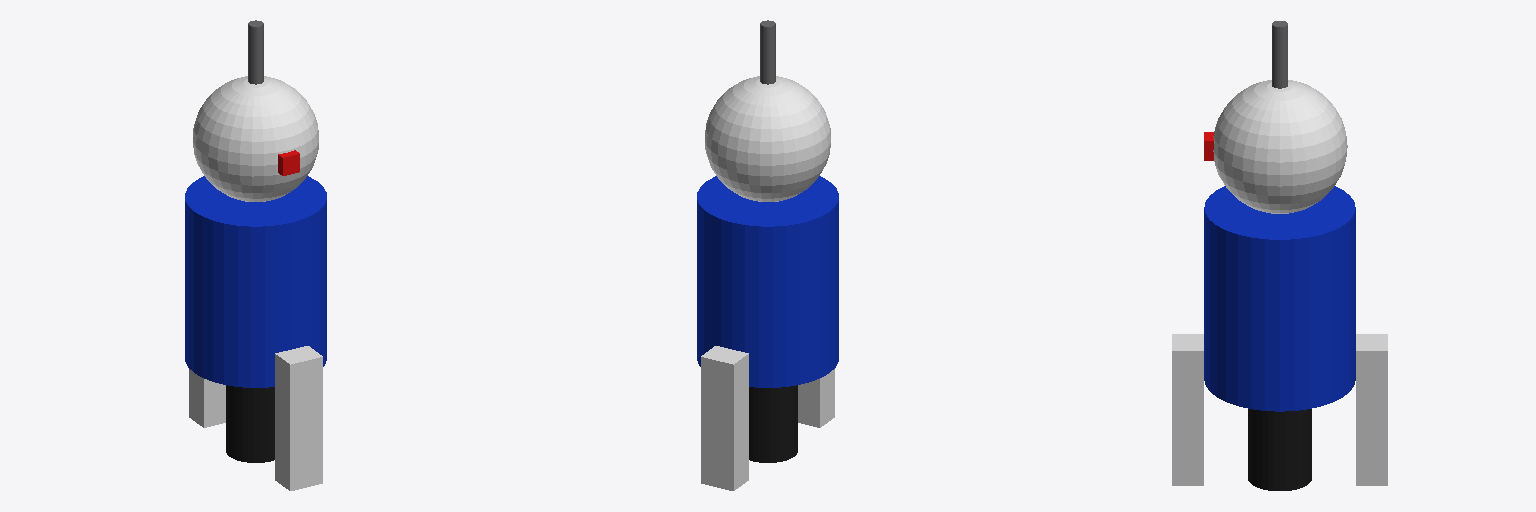
robot.urdf — r2d2:
<?xml version="1.0"?>
<!--
  R2D2, deliberately simple: 7 links, 6 joints.
  Four joints are animated by the r2d2 state_publisher:
      l1_connect, l2_connect (leg swing)
      tilt                   (head nod)
      periscope              (rod spin)
  body_connect and box_connect are fixed.

  axis is the root link and intentionally has no <inertial>, which also
  avoids the KDL "root link has an inertia" warning.
-->
<robot name="r2d2">

  <material name="blue">  <color rgba="0.10 0.25 0.80 1.0"/> </material>
  <material name="white"> <color rgba="0.90 0.90 0.90 1.0"/> </material>
  <material name="grey">  <color rgba="0.45 0.45 0.45 1.0"/> </material>
  <material name="dark">  <color rgba="0.15 0.15 0.15 1.0"/> </material>
  <material name="red">   <color rgba="0.90 0.10 0.10 1.0"/> </material>

  <!-- ============================== links ============================ -->
  <!-- central spine, hides inside the body -->
  <link name="axis">
    <visual>
      <geometry> <cylinder radius="0.12" length="0.9"/> </geometry>
      <origin xyz="0 0 0.45" rpy="0 0 0"/>
      <material name="dark"/>
    </visual>
    <collision>
      <geometry> <cylinder radius="0.12" length="0.9"/> </geometry>
      <origin xyz="0 0 0.45" rpy="0 0 0"/>
    </collision>
  </link>

  <!-- side legs, pivoting at the hip -->
  <link name="leg1">
    <visual>
      <geometry> <box size="0.15 0.12 0.55"/> </geometry>
      <origin xyz="0 0 -0.275" rpy="0 0 0"/>
      <material name="white"/>
    </visual>
    <collision>
      <geometry> <box size="0.15 0.12 0.55"/> </geometry>
      <origin xyz="0 0 -0.275" rpy="0 0 0"/>
    </collision>
    <inertial>
      <mass value="1.0"/>
      <origin xyz="0 0 -0.275" rpy="0 0 0"/>
      <inertia ixx="0.026408" ixy="0.0" ixz="0.0"
               iyy="0.027083" iyz="0.0"
               izz="0.003075"/>
    </inertial>
  </link>

  <link name="leg2">
    <visual>
      <geometry> <box size="0.15 0.12 0.55"/> </geometry>
      <origin xyz="0 0 -0.275" rpy="0 0 0"/>
      <material name="white"/>
    </visual>
    <collision>
      <geometry> <box size="0.15 0.12 0.55"/> </geometry>
      <origin xyz="0 0 -0.275" rpy="0 0 0"/>
    </collision>
    <inertial>
      <mass value="1.0"/>
      <origin xyz="0 0 -0.275" rpy="0 0 0"/>
      <inertia ixx="0.026408" ixy="0.0" ixz="0.0"
               iyy="0.027083" iyz="0.0"
               izz="0.003075"/>
    </inertial>
  </link>

  <!-- main body -->
  <link name="body">
    <visual>
      <geometry> <cylinder radius="0.28" length="0.7"/> </geometry>
      <origin xyz="0 0 0.35" rpy="0 0 0"/>
      <material name="blue"/>
    </visual>
    <collision>
      <geometry> <cylinder radius="0.28" length="0.7"/> </geometry>
      <origin xyz="0 0 0.35" rpy="0 0 0"/>
    </collision>
    <inertial>
      <mass value="5.0"/>
      <origin xyz="0 0 0.35" rpy="0 0 0"/>
      <inertia ixx="0.302167" ixy="0.0" ixz="0.0"
               iyy="0.302167" iyz="0.0"
               izz="0.196000"/>
    </inertial>
  </link>

  <!-- dome -->
  <link name="head">
    <visual>
      <geometry> <sphere radius="0.25"/> </geometry>
      <origin xyz="0 0 0.25" rpy="0 0 0"/>
      <material name="white"/>
    </visual>
    <collision>
      <geometry> <sphere radius="0.25"/> </geometry>
      <origin xyz="0 0 0.25" rpy="0 0 0"/>
    </collision>
    <inertial>
      <mass value="2.0"/>
      <origin xyz="0 0 0.25" rpy="0 0 0"/>
      <inertia ixx="0.050000" ixy="0.0" ixz="0.0"
               iyy="0.050000" iyz="0.0"
               izz="0.050000"/>
    </inertial>
  </link>

  <!-- periscope rod -->
  <link name="rod">
    <visual>
      <geometry> <cylinder radius="0.03" length="0.25"/> </geometry>
      <origin xyz="0 0 0.125" rpy="0 0 0"/>
      <material name="grey"/>
    </visual>
    <collision>
      <geometry> <cylinder radius="0.03" length="0.25"/> </geometry>
      <origin xyz="0 0 0.125" rpy="0 0 0"/>
    </collision>
    <inertial>
      <mass value="0.2"/>
      <origin xyz="0 0 0.125" rpy="0 0 0"/>
      <inertia ixx="0.001087" ixy="0.0" ixz="0.0"
               iyy="0.001087" iyz="0.0"
               izz="0.000090"/>
    </inertial>
  </link>

  <!-- small box on the side of the dome -->
  <link name="box">
    <visual>
      <geometry> <box size="0.08 0.08 0.08"/> </geometry>
      <origin xyz="0 0 0" rpy="0 0 0"/>
      <material name="red"/>
    </visual>
    <collision>
      <geometry> <box size="0.08 0.08 0.08"/> </geometry>
      <origin xyz="0 0 0" rpy="0 0 0"/>
    </collision>
    <inertial>
      <mass value="0.2"/>
      <origin xyz="0 0 0" rpy="0 0 0"/>
      <inertia ixx="0.000213" ixy="0.0" ixz="0.0"
               iyy="0.000213" iyz="0.0"
               izz="0.000213"/>
    </inertial>
  </link>

  <!-- ============================== joints =========================== -->
  <!-- legs swing forwards/backwards about Y -->
  <joint name="l1_connect" type="continuous">
    <parent link="axis"/>
    <child  link="leg1"/>
    <origin xyz="0 0.34 0.55" rpy="0 0 0"/>
    <axis xyz="0 1 0"/>
    <dynamics damping="0.1" friction="0.05"/>
  </joint>

  <joint name="l2_connect" type="continuous">
    <parent link="axis"/>
    <child  link="leg2"/>
    <origin xyz="0 -0.34 0.55" rpy="0 0 0"/>
    <axis xyz="0 1 0"/>
    <dynamics damping="0.1" friction="0.05"/>
  </joint>

  <!-- body sits on the spine -->
  <joint name="body_connect" type="fixed">
    <parent link="axis"/>
    <child  link="body"/>
    <origin xyz="0 0 0.4" rpy="0 0 0"/>
  </joint>

  <!-- head nods about X -->
  <joint name="tilt" type="revolute">
    <parent link="body"/>
    <child  link="head"/>
    <origin xyz="0 0 0.7" rpy="0 0 0"/>
    <axis xyz="1 0 0"/>
    <limit lower="-1.0" upper="1.0" effort="30.0" velocity="1.0"/>
    <dynamics damping="0.1" friction="0.05"/>
  </joint>

  <!-- rod spins about Z -->
  <joint name="periscope" type="continuous">
    <parent link="head"/>
    <child  link="rod"/>
    <origin xyz="0 0 0.5" rpy="0 0 0"/>
    <axis xyz="0 0 1"/>
    <dynamics damping="0.1" friction="0.05"/>
  </joint>

  <joint name="box_connect" type="fixed">
    <parent link="head"/>
    <child  link="box"/>
    <origin xyz="0 -0.24 0.25" rpy="0 0 0"/>
  </joint>

</robot>

--- Facts derived from the render (not from the file) ---
Views: 3 orthographic renders of the robot side by side, from view 1: azimuth 30°, elevation 25°; view 2: azimuth 150°, elevation 25°; view 3: azimuth 270°, elevation 25°.
Robot: r2d2 — 7 links, 6 joints (1 revolute, 3 continuous, 2 fixed); root link axis; default pose: all joints at 0.
Visible links, largest first — view 1: body, head, leg2, axis, leg1, rod; view 2: body, head, leg1, axis, leg2, rod; view 3: body, head, axis, leg1, leg2, rod.
Boxes of the visible links, left/top/right/bottom form: body: left=185, top=176, right=326, bottom=387; head: left=193, top=76, right=318, bottom=201; leg2: left=275, top=346, right=322, bottom=490; axis: left=226, top=385, right=274, bottom=462; leg1: left=189, top=369, right=225, bottom=427; rod: left=248, top=20, right=263, bottom=84; body: left=697, top=176, right=838, bottom=387; head: left=705, top=76, right=830, bottom=201; leg1: left=701, top=346, right=748, bottom=490; axis: left=749, top=385, right=797, bottom=462; leg2: left=798, top=369, right=834, bottom=427; rod: left=760, top=20, right=775, bottom=84; body: left=1204, top=186, right=1355, bottom=411; head: left=1213, top=80, right=1347, bottom=213; axis: left=1248, top=409, right=1311, bottom=490; leg1: left=1356, top=334, right=1387, bottom=485; leg2: left=1172, top=334, right=1203, bottom=485; rod: left=1272, top=21, right=1287, bottom=88.
Size in the robot's own frame: 0.56 by 0.8 by 1.85 metres.
Geometry: primitives only (box / cylinder / sphere), no mesh files.
